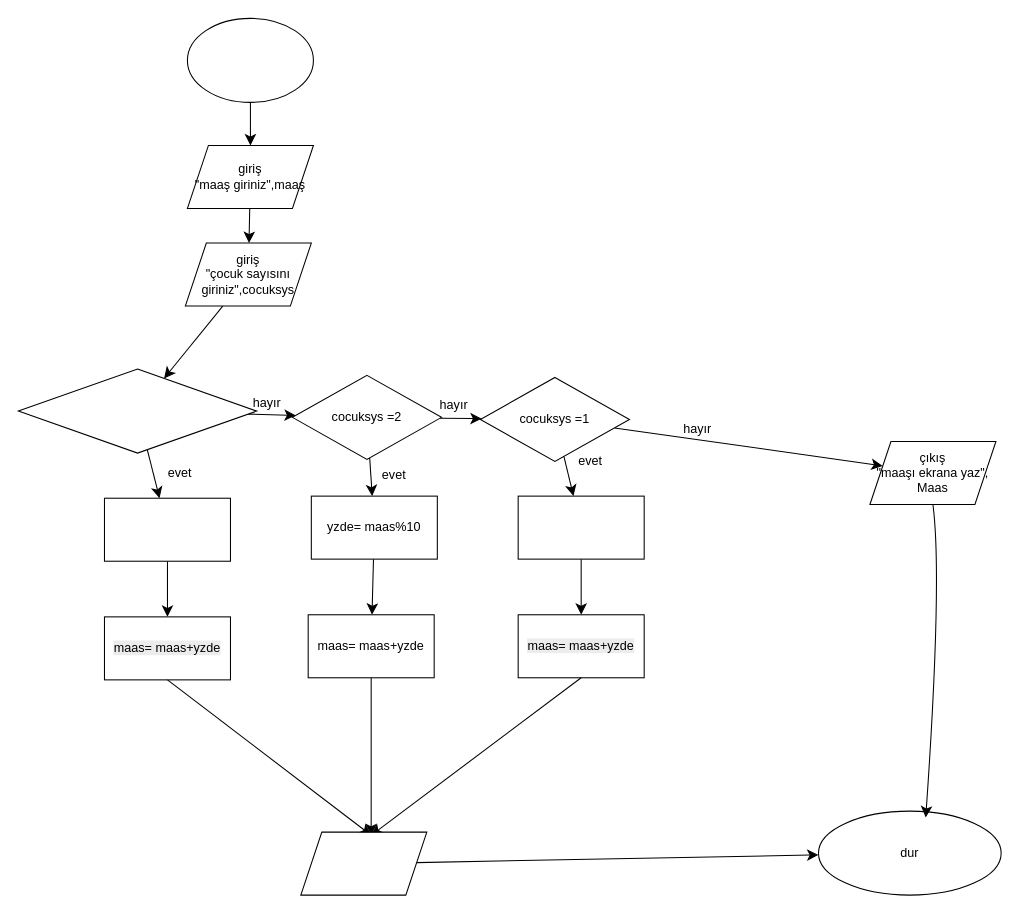
Some shapes in this 1020 by 913 pixel diagram are drawn without their labels. The centre of each missing label's shape, as x and y in pixels:
başla: (249,59)
cocuksys >=3: (137,410)
yzde= maas%15: (166,529)
yzde= maas%5: (580,527)
çıkış "maaşı ekrana yaz" , Maas: (363,863)
